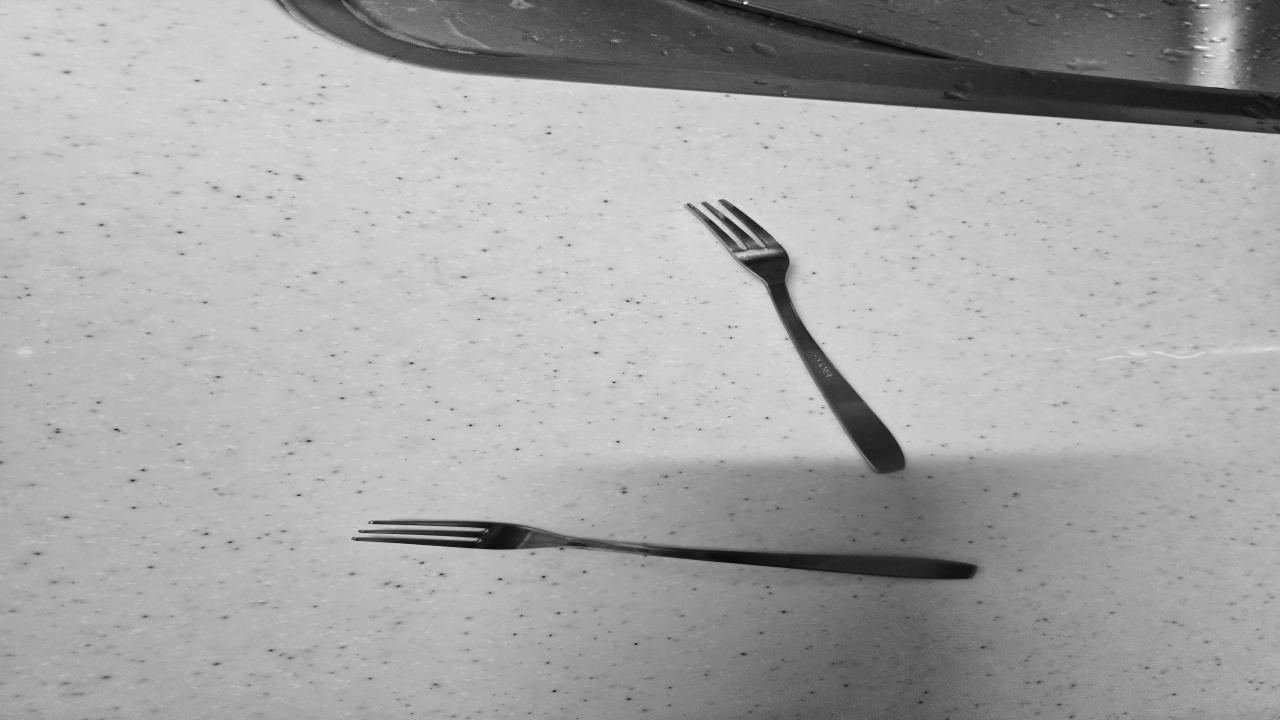fork: (687, 200, 926, 474), (354, 516, 960, 579)
